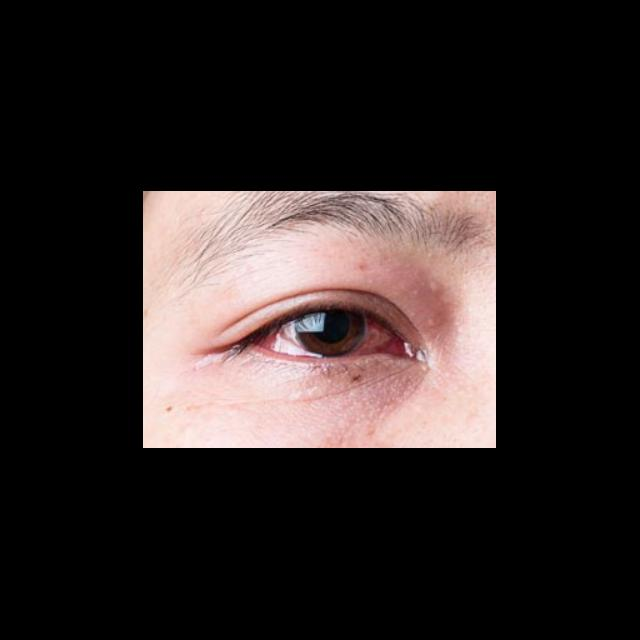eye: (261, 311, 398, 358)
iris: (296, 312, 367, 357)
